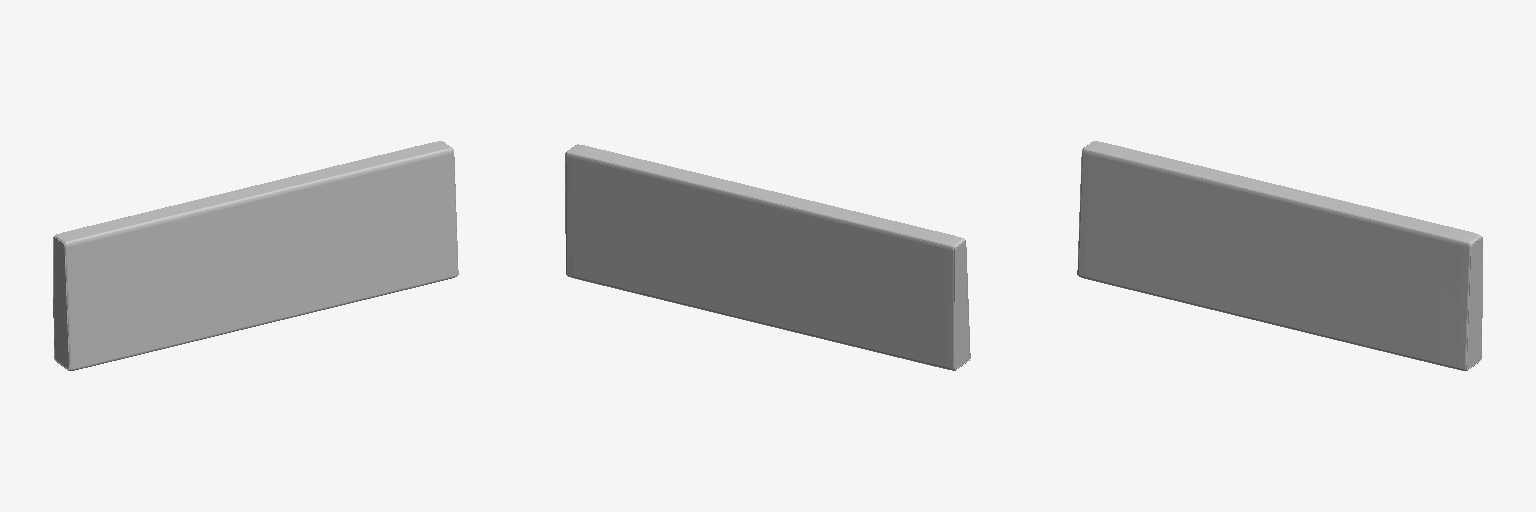
File: couch-back.obj
The picture shows the model from 3 angles: view 1: azimuth 30°, elevation 25°; view 2: azimuth 150°, elevation 25°; view 3: azimuth 330°, elevation 25°; orthographic projection.
Visible parts, largest first — view 1: 0_back_Untitled.008; view 2: 0_back_Untitled.008; view 3: 0_back_Untitled.008.
Boxes of the visible parts, x1,y1,x2,y2 form: 0_back_Untitled.008: [53, 141, 458, 370]; 0_back_Untitled.008: [565, 144, 970, 370]; 0_back_Untitled.008: [1077, 141, 1482, 370].
Bounding box in the file's own units: 4.64 × 1.44 × 0.3546.